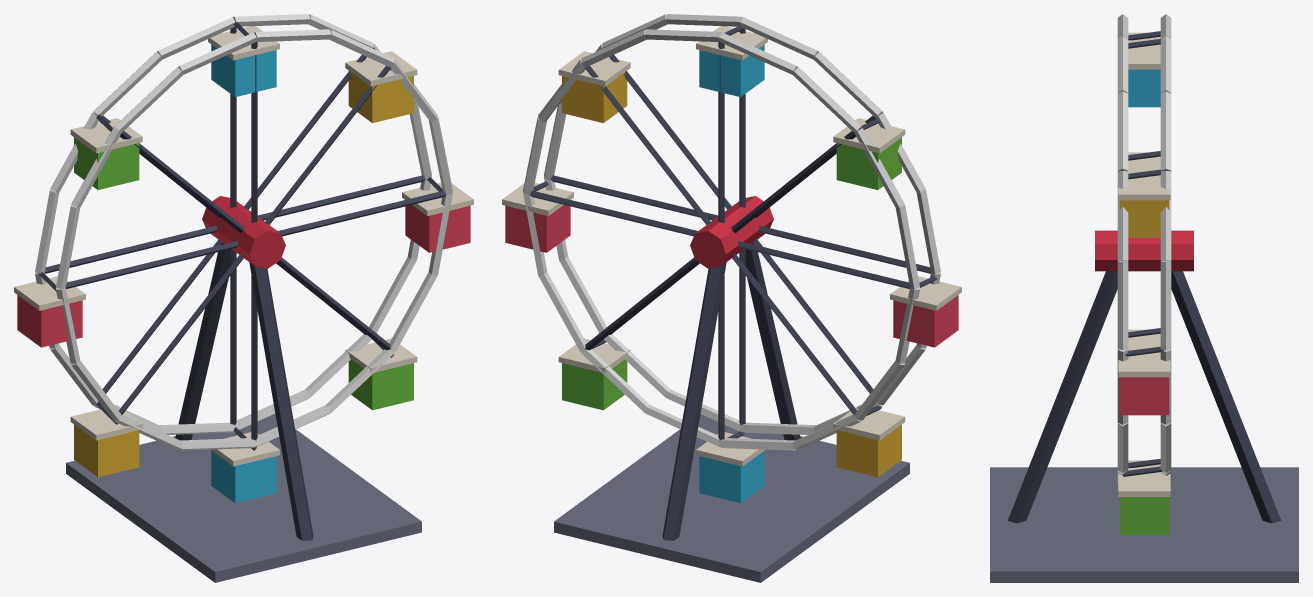
File: ferris_wheel.glb
3 renders of one model, left to right at view 1: azimuth 30°, elevation 25°; view 2: azimuth 150°, elevation 25°; view 3: azimuth 270°, elevation 25°, orthographic. The views are drawn at different scales.
Visible parts, largest first — view 1: ferris_wheel; view 2: ferris_wheel; view 3: ferris_wheel.
Part boxes in pixels (x1,y1,x2,y2): ferris_wheel: [14, 14, 473, 582]; ferris_wheel: [502, 14, 961, 582]; ferris_wheel: [990, 14, 1298, 582].
Bounding box in the file's own units: 1.68 × 1.77 × 1.
